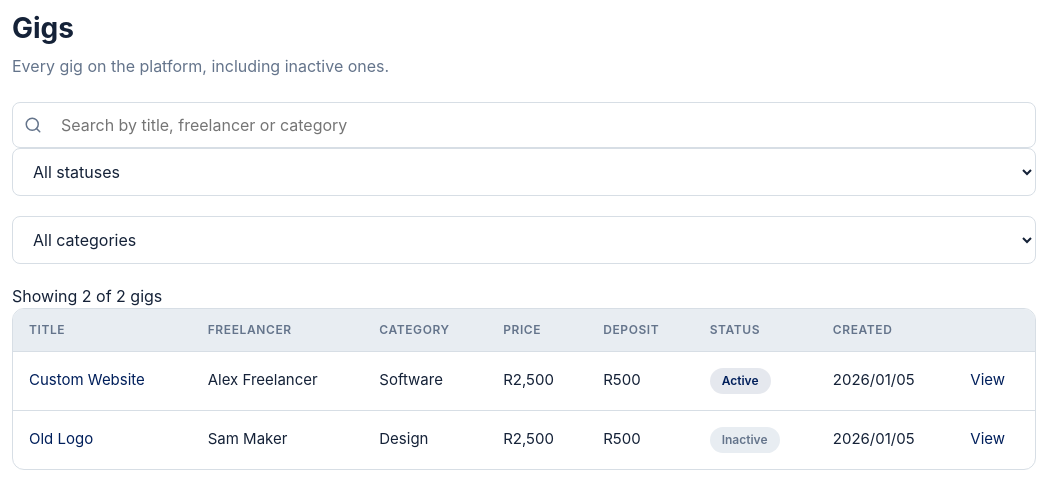
Scenario: Admin Gigs (25) › shows inactive gigs too, and filters by status / category / search
expect the link "Old Logo" is shown: met, box [29, 429, 93, 448]
expect the text "Inactive" is shown: met, box [710, 427, 780, 453]
Select "Inactive" in the dropdown named "Filter by statuses". click: (524, 172)
box: [12, 148, 1036, 196]
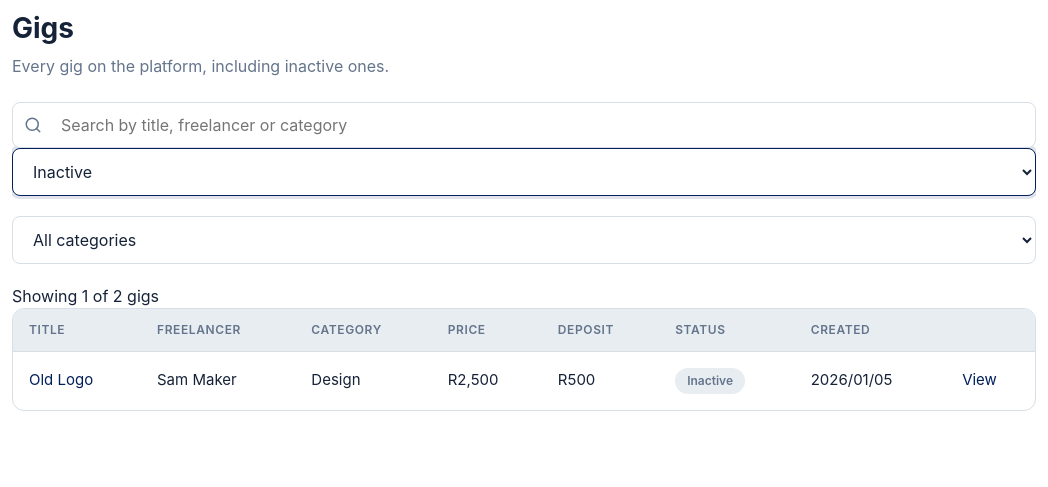
expect the link "Custom Website" is gone: met
expect the text "Showing 1 of 2 gigs" is shown: met, box [12, 286, 159, 306]
Select "All statuses" in the dropdown named "Filter by statuses". click: (524, 172)
box: [12, 148, 1036, 196]
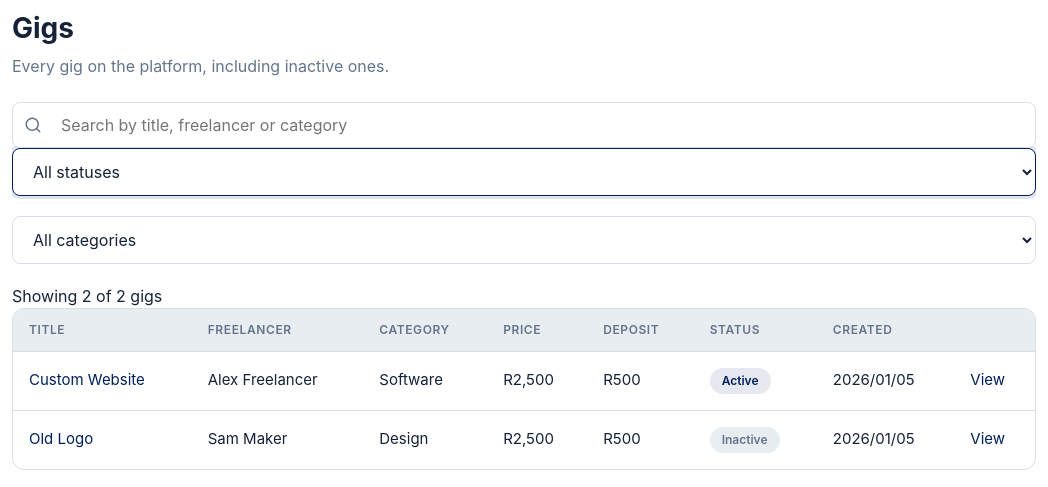
Select "Software" in the dropdown named "Filter by categories". click: (524, 240)
box: [12, 216, 1036, 264]
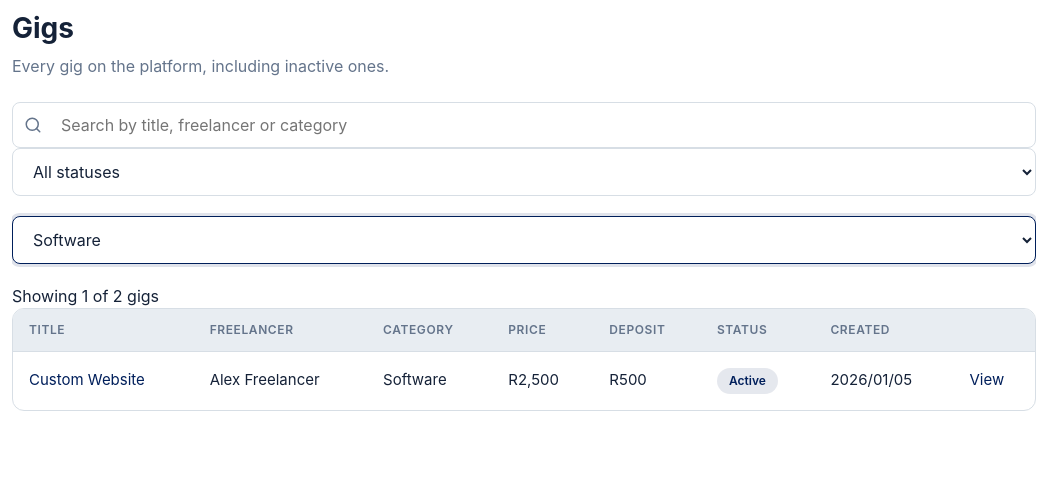
expect the link "Old Logo" is gone: met
Select "All categories" in the dropdown named "Filter by categories". click: (524, 240)
box: [12, 216, 1036, 264]
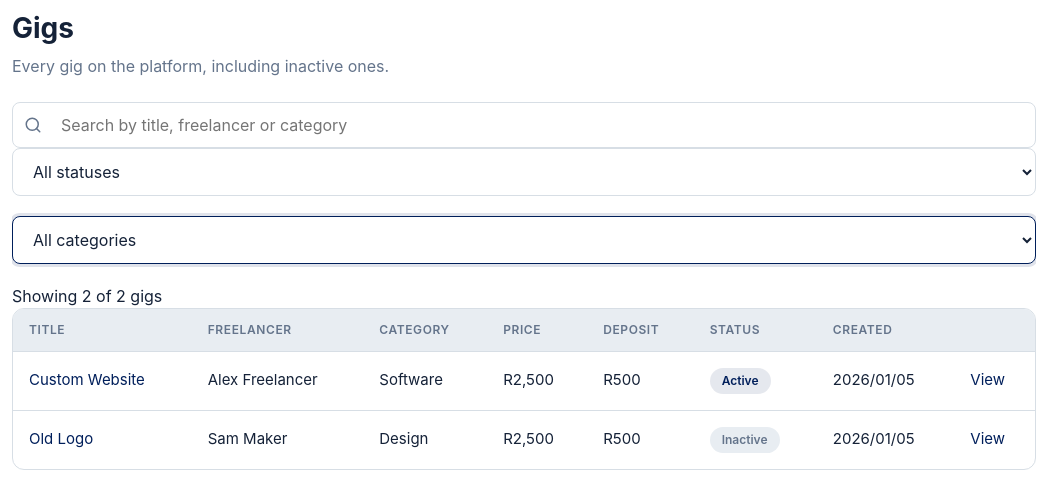
Type "sam" into the field named "Search gigs". click: (524, 125)
box: [12, 102, 1036, 148]
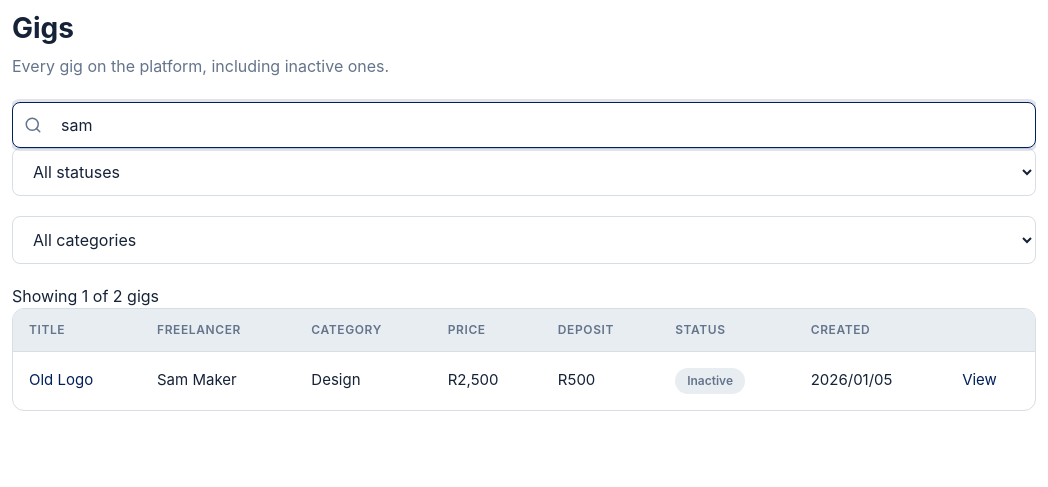
expect the link "Old Logo" is shown: met, box [29, 370, 93, 389]
expect the link "Custom Website" is gone: met
